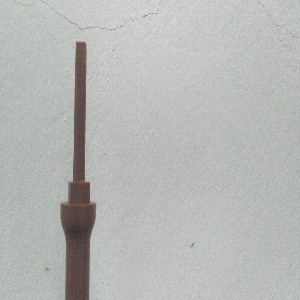obeng: (60, 39, 97, 300)
